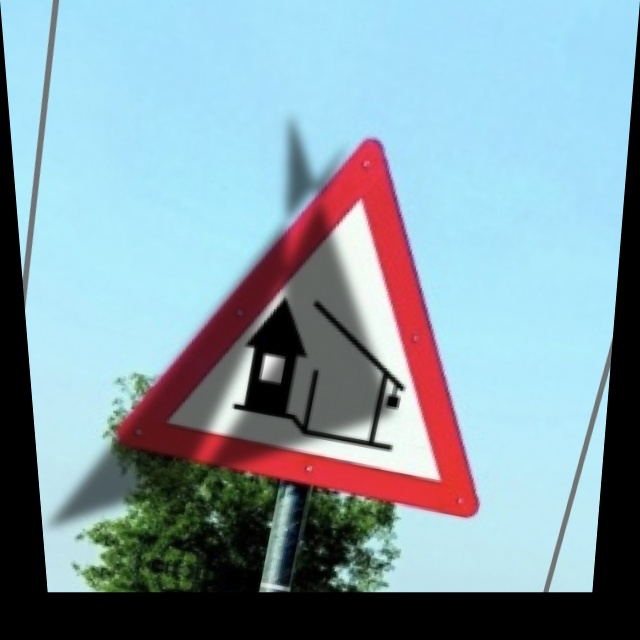Barrier_Ahead: (110, 101, 551, 521)
